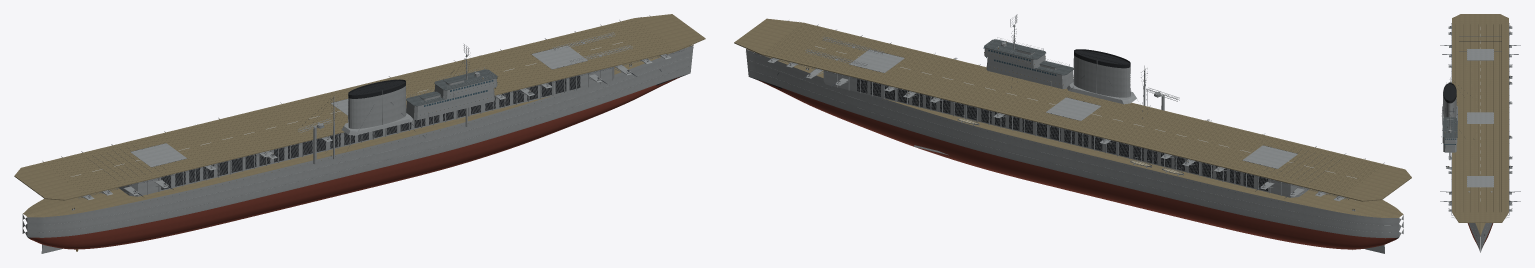
File: demo-enterprise.glb
3 views of the same model, side by side, from view 1: azimuth 30°, elevation 25°; view 2: azimuth 150°, elevation 25°; view 3: azimuth 270°, elevation 25° (orthographic). The views are drawn at different scales.
Parts seen in each view (by area): view 1: USS Enterprise (CV-6), Midway1942; view 2: USS Enterprise (CV-6), Midway1942; view 3: USS Enterprise (CV-6), Midway1942.
Boxes of the visible parts, x1,y1,x2,y2 form: USS Enterprise (CV-6), Midway1942: (14, 14, 705, 253); USS Enterprise (CV-6), Midway1942: (734, 14, 1411, 253); USS Enterprise (CV-6), Midway1942: (1440, 14, 1520, 252).
Bounding box in the file's own units: 247 × 45.45 × 39.92.
Materials: 10 (9 with a texture image).
